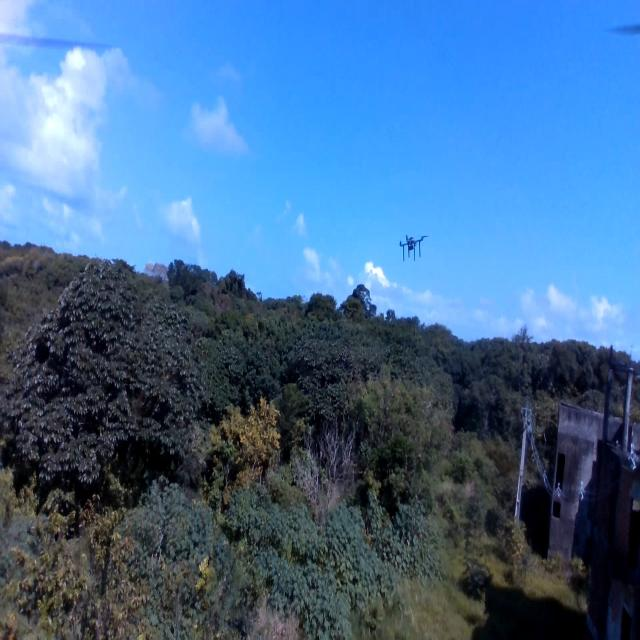-uav-: (398, 222, 434, 282)
